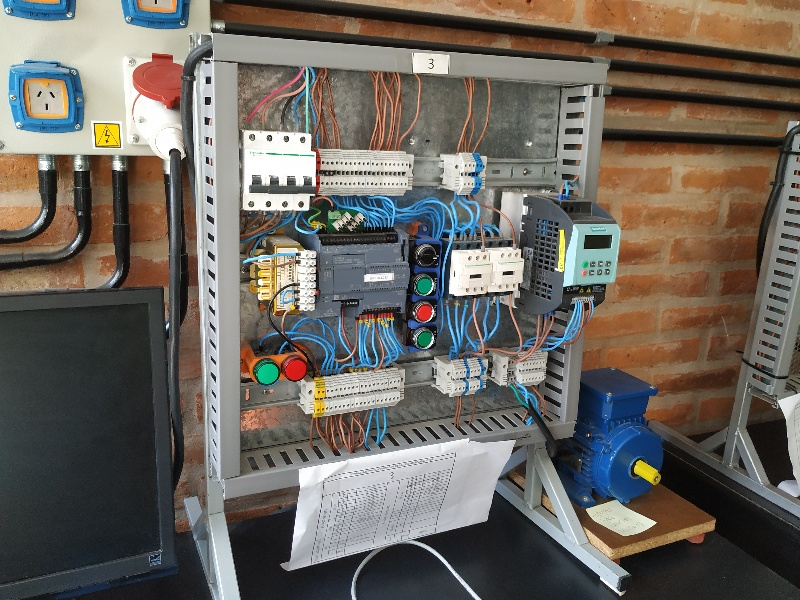Tablero 3: (232, 55, 623, 501)
